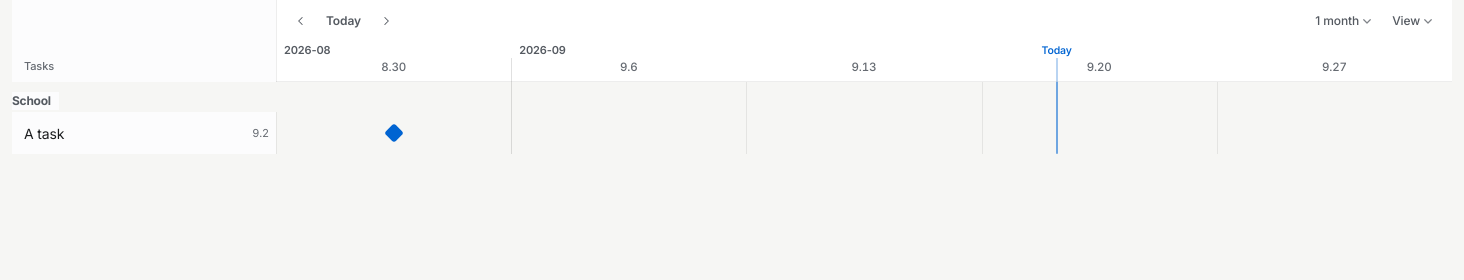
Test case: a bar with one date › stays a rectangle at the hour zoom, where a day has real width
Click the button with aria-label "Zoom" at (1344, 21), box x1=1307 y1=6 x2=1381 y2=36
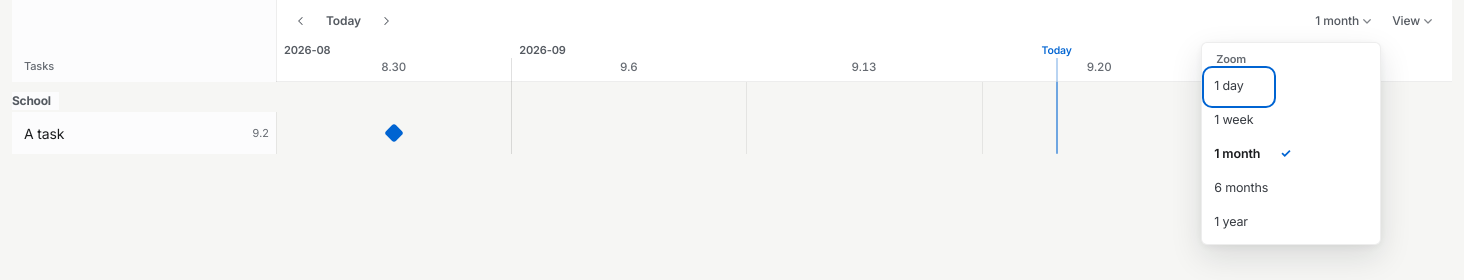
Click the menu item "1 day" at (1239, 86), box x1=1206 y1=70 x2=1272 y2=104
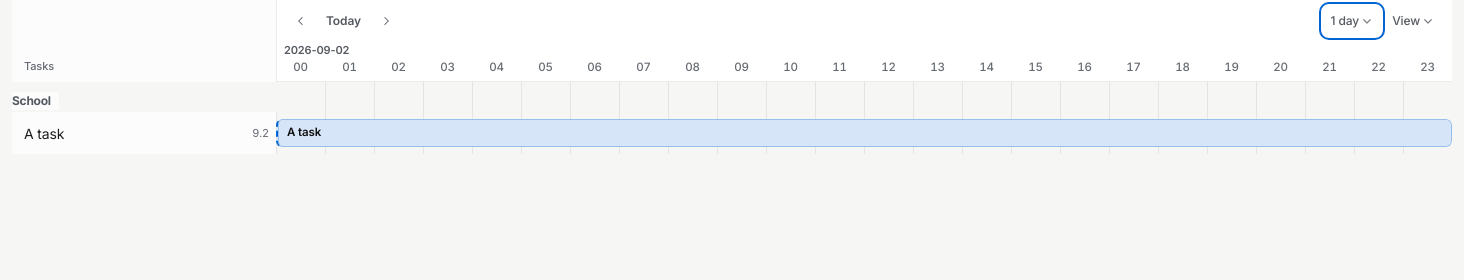
Expected: the element with class "ff-timeline-bar" does not have class "is-single", x1=276 y1=119 x2=1452 y2=147
Expected: the element with class "ff-timeline-bar" does not have class "is-marker", x1=276 y1=119 x2=1452 y2=147
